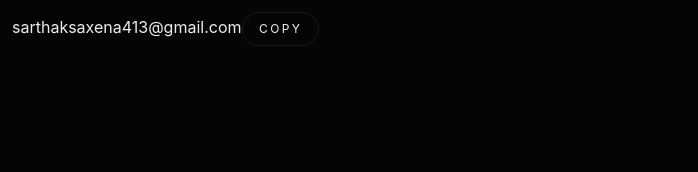
Test: copy email › when the browser refuses, it selects the address and says how to copy it
Click the button with aria-label "Copy email address".
click(280, 29)  # box [242,12,319,46]
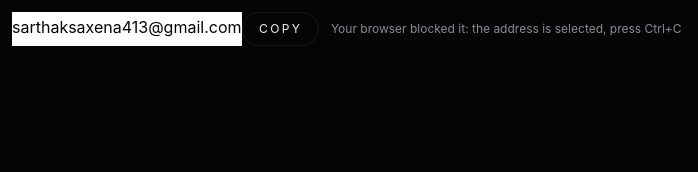
Expected: the link with id "addr" reads "sarthaksaxena413@gmail.com", [12,17,242,37]
Now the message shows "selected, press Ctrl+C", box [331,21,682,36]
